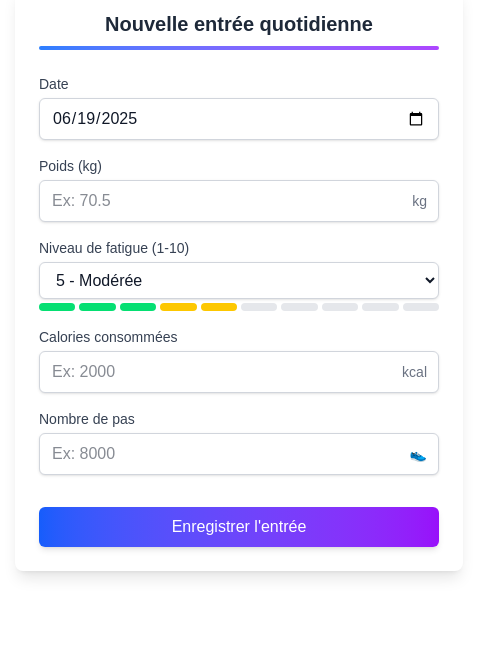
Test: DailyEntryForm Component › should clear errors when user starts typing
The image size is (479, 669).
# Trigger validation error
Step 1. Submit the form labelled "Poids", box [39, 74, 439, 547]
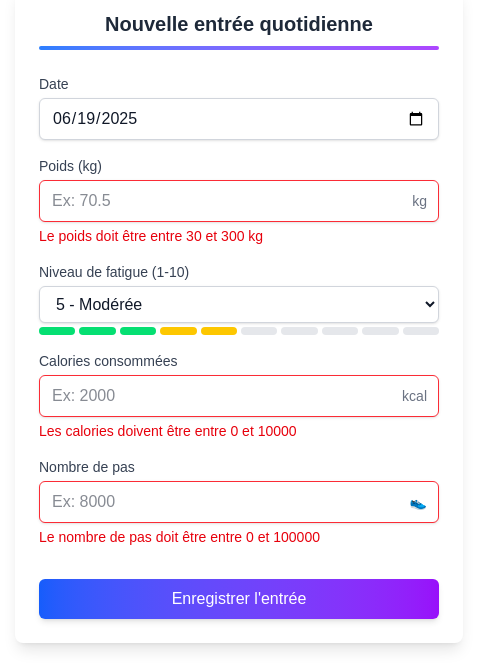
Check: the text "Le poids doit être entre 30 et 300 kg" is shown, box [39, 228, 263, 244]
# Start typing to clear error
Step 2. Type "70" into the number field labelled "Poids (kg)" → (239, 201), box [39, 180, 439, 222]
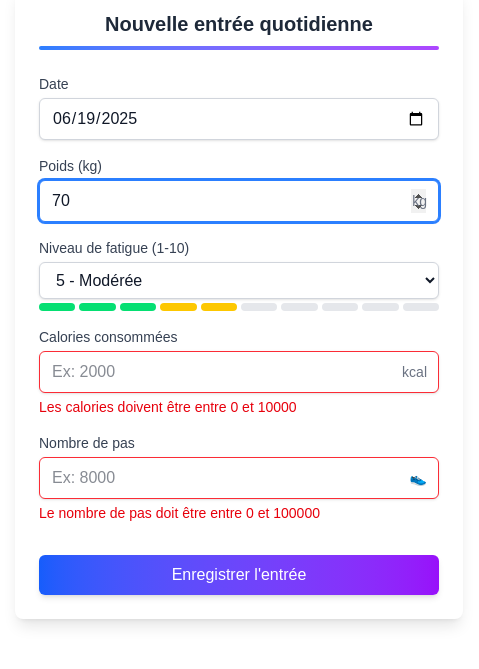
Check: the text "Le poids doit être entre 30 et 300 kg" is gone
